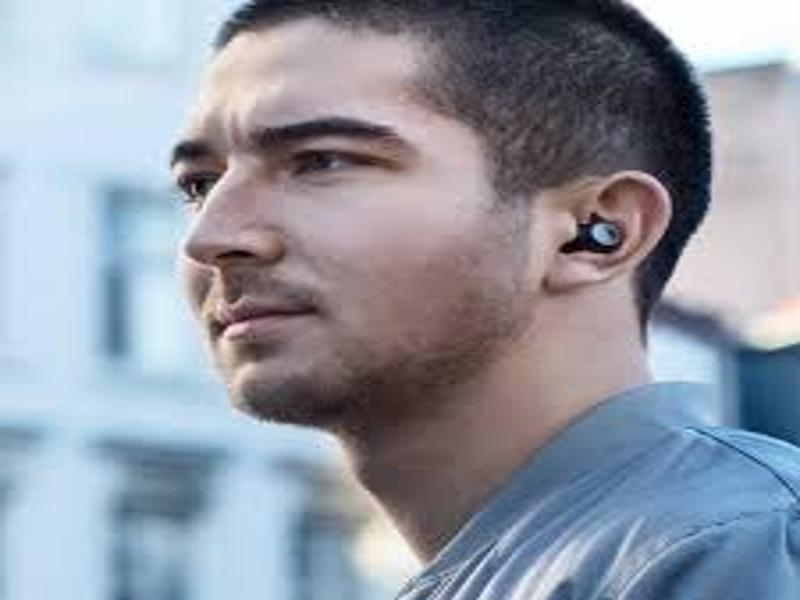headphone: (562, 218, 627, 258)
